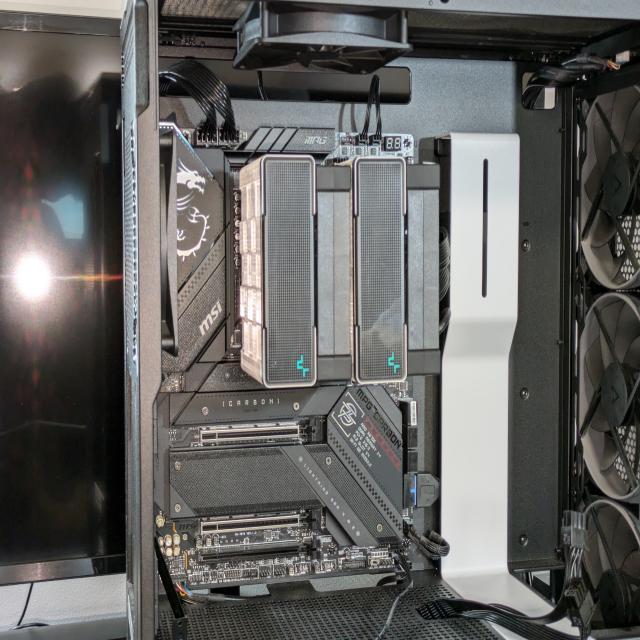CPU_Fan: (238, 155, 440, 389)
Mainboard: (156, 128, 414, 608)
